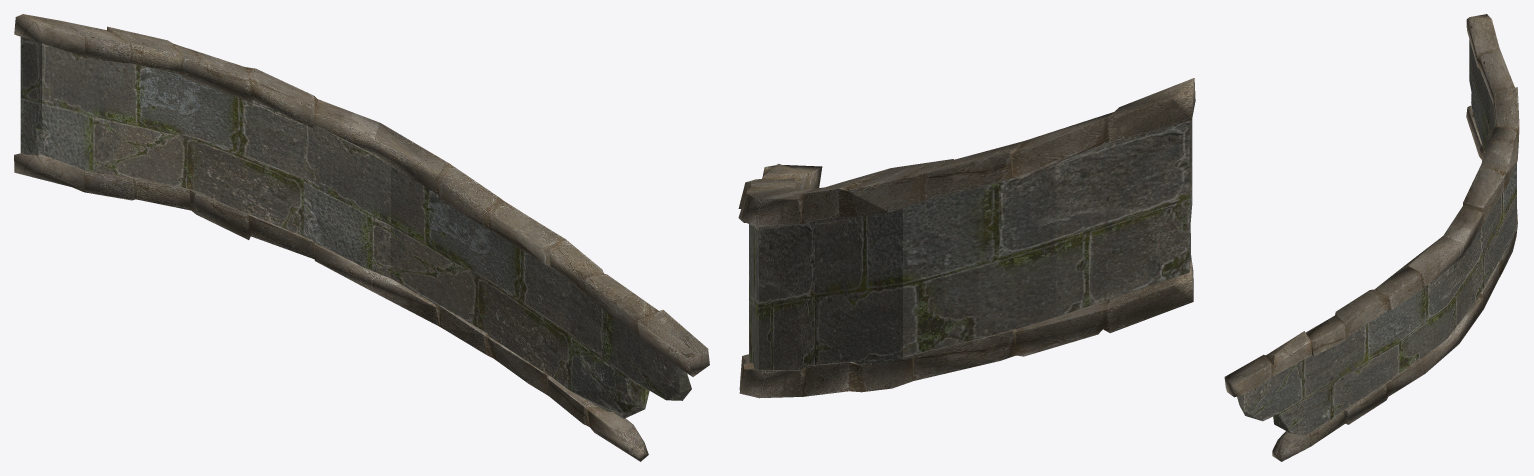
Rendered from bg_anh_gvalley_sa01_04_sm_cwk.FBX.
The picture shows the model from 3 angles, left to right: view 1: azimuth 30°, elevation 25°; view 2: azimuth 150°, elevation 25°; view 3: azimuth 270°, elevation 25°; orthographic projection. The views are drawn at different scales.
Parts seen in each view (by area): view 1: bg_anh_gvalley_sa01_04_sm_cwk; view 2: bg_anh_gvalley_sa01_04_sm_cwk; view 3: bg_anh_gvalley_sa01_04_sm_cwk.
Boxes of the visible parts, x1,y1,x2,y2 form: bg_anh_gvalley_sa01_04_sm_cwk: (14,14,709,461); bg_anh_gvalley_sa01_04_sm_cwk: (738,78,1195,398); bg_anh_gvalley_sa01_04_sm_cwk: (1224,14,1519,461).
Size of the model in its own units: 502 by 420 by 382.
